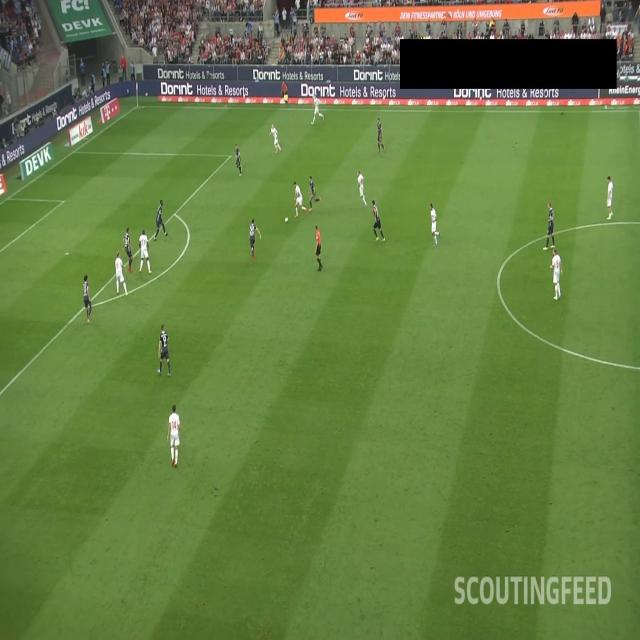ball: (284, 216, 288, 224)
